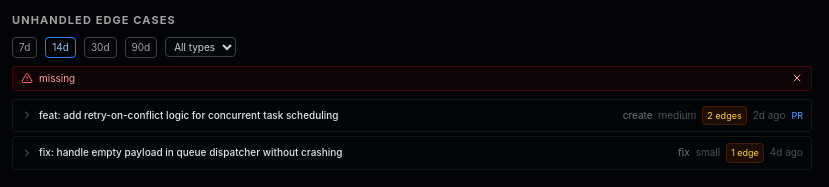
Test: SrUnhandledEdgesRetrospectivesPanel — viewport regression › banner dismissed on dismiss click and does not reappear
Expected: the message "missing" is shown, [12, 66, 812, 90]
Click the button named "dismiss health banner" at (797, 78), box [791, 72, 803, 84]
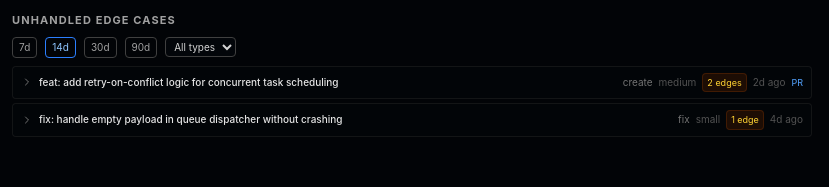
Expected: the message with test id "sr-health-banner" is gone
